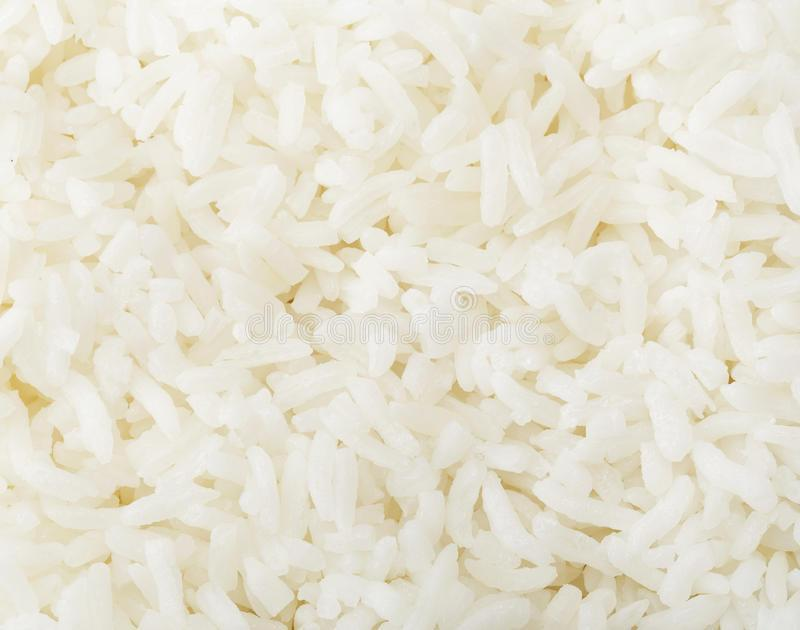rice: (9, 9, 783, 606)
